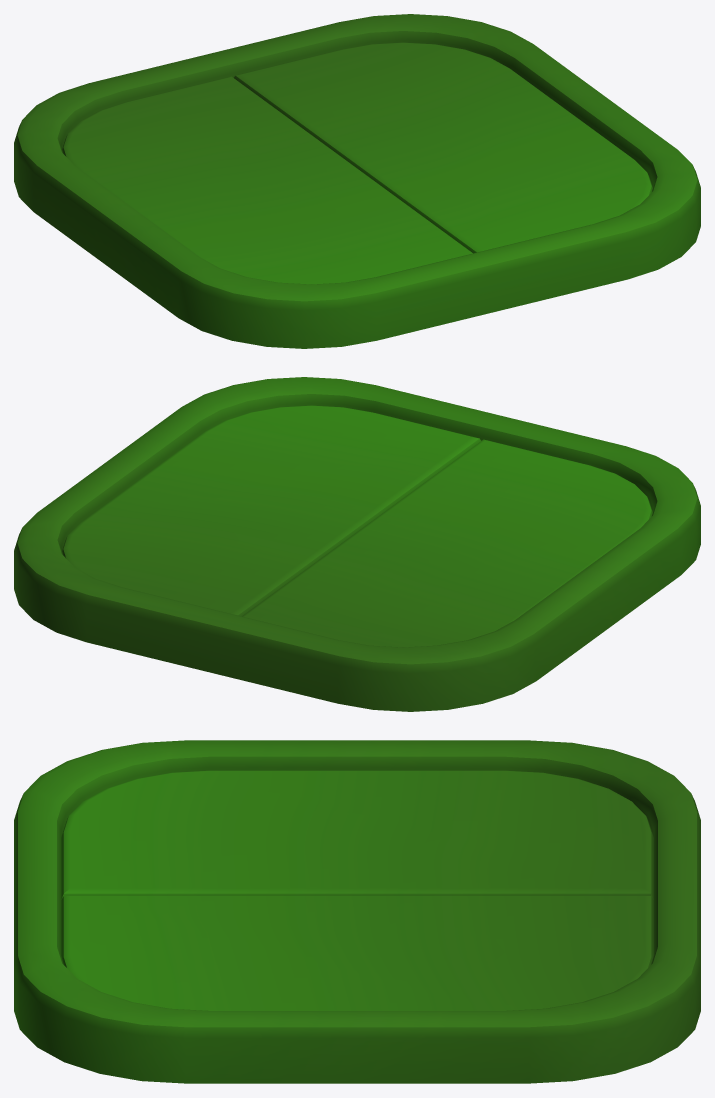
3 views of the same model, one above another, from view 1: azimuth 30°, elevation 25°; view 2: azimuth 150°, elevation 25°; view 3: azimuth 270°, elevation 25° (orthographic). The views are drawn at different scales.
Visible parts, largest first — view 1: box2, box1, box3; view 2: box2, box1, box3; view 3: box2, box3, box1.
Boxes of the visible parts, box(x1,y1,x2,y2) form: box2: box(14, 14, 700, 348); box1: box(234, 42, 652, 253); box3: box(62, 76, 472, 284); box2: box(14, 377, 700, 711); box1: box(62, 405, 480, 616); box3: box(242, 439, 652, 647); box2: box(14, 740, 700, 1083); box3: box(61, 770, 653, 899); box1: box(61, 896, 653, 1010).
Size of the model in its own units: 235 by 22.05 by 235.
Materials: 1 (1 with a texture image).
